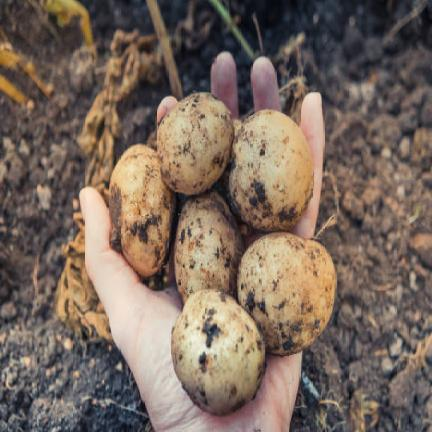potato: (239, 232, 335, 354), (172, 290, 265, 414), (229, 110, 313, 231), (109, 144, 175, 276), (156, 92, 233, 194), (175, 192, 243, 302)
